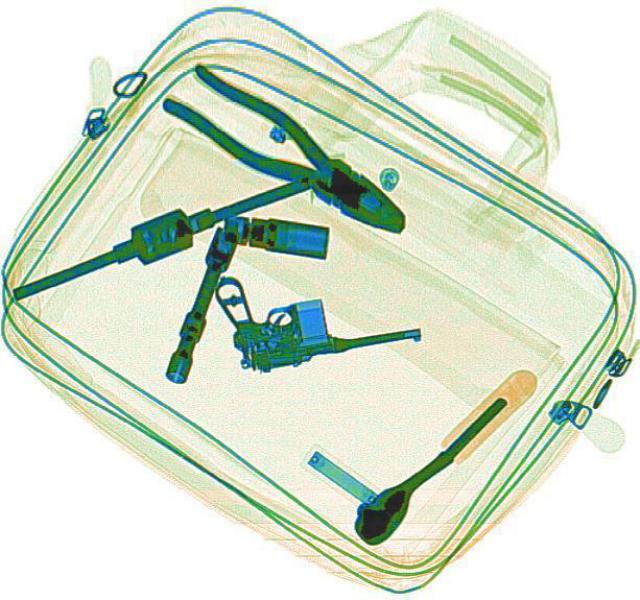Gun: (209, 246, 423, 376)
Pliers: (157, 57, 425, 250)
